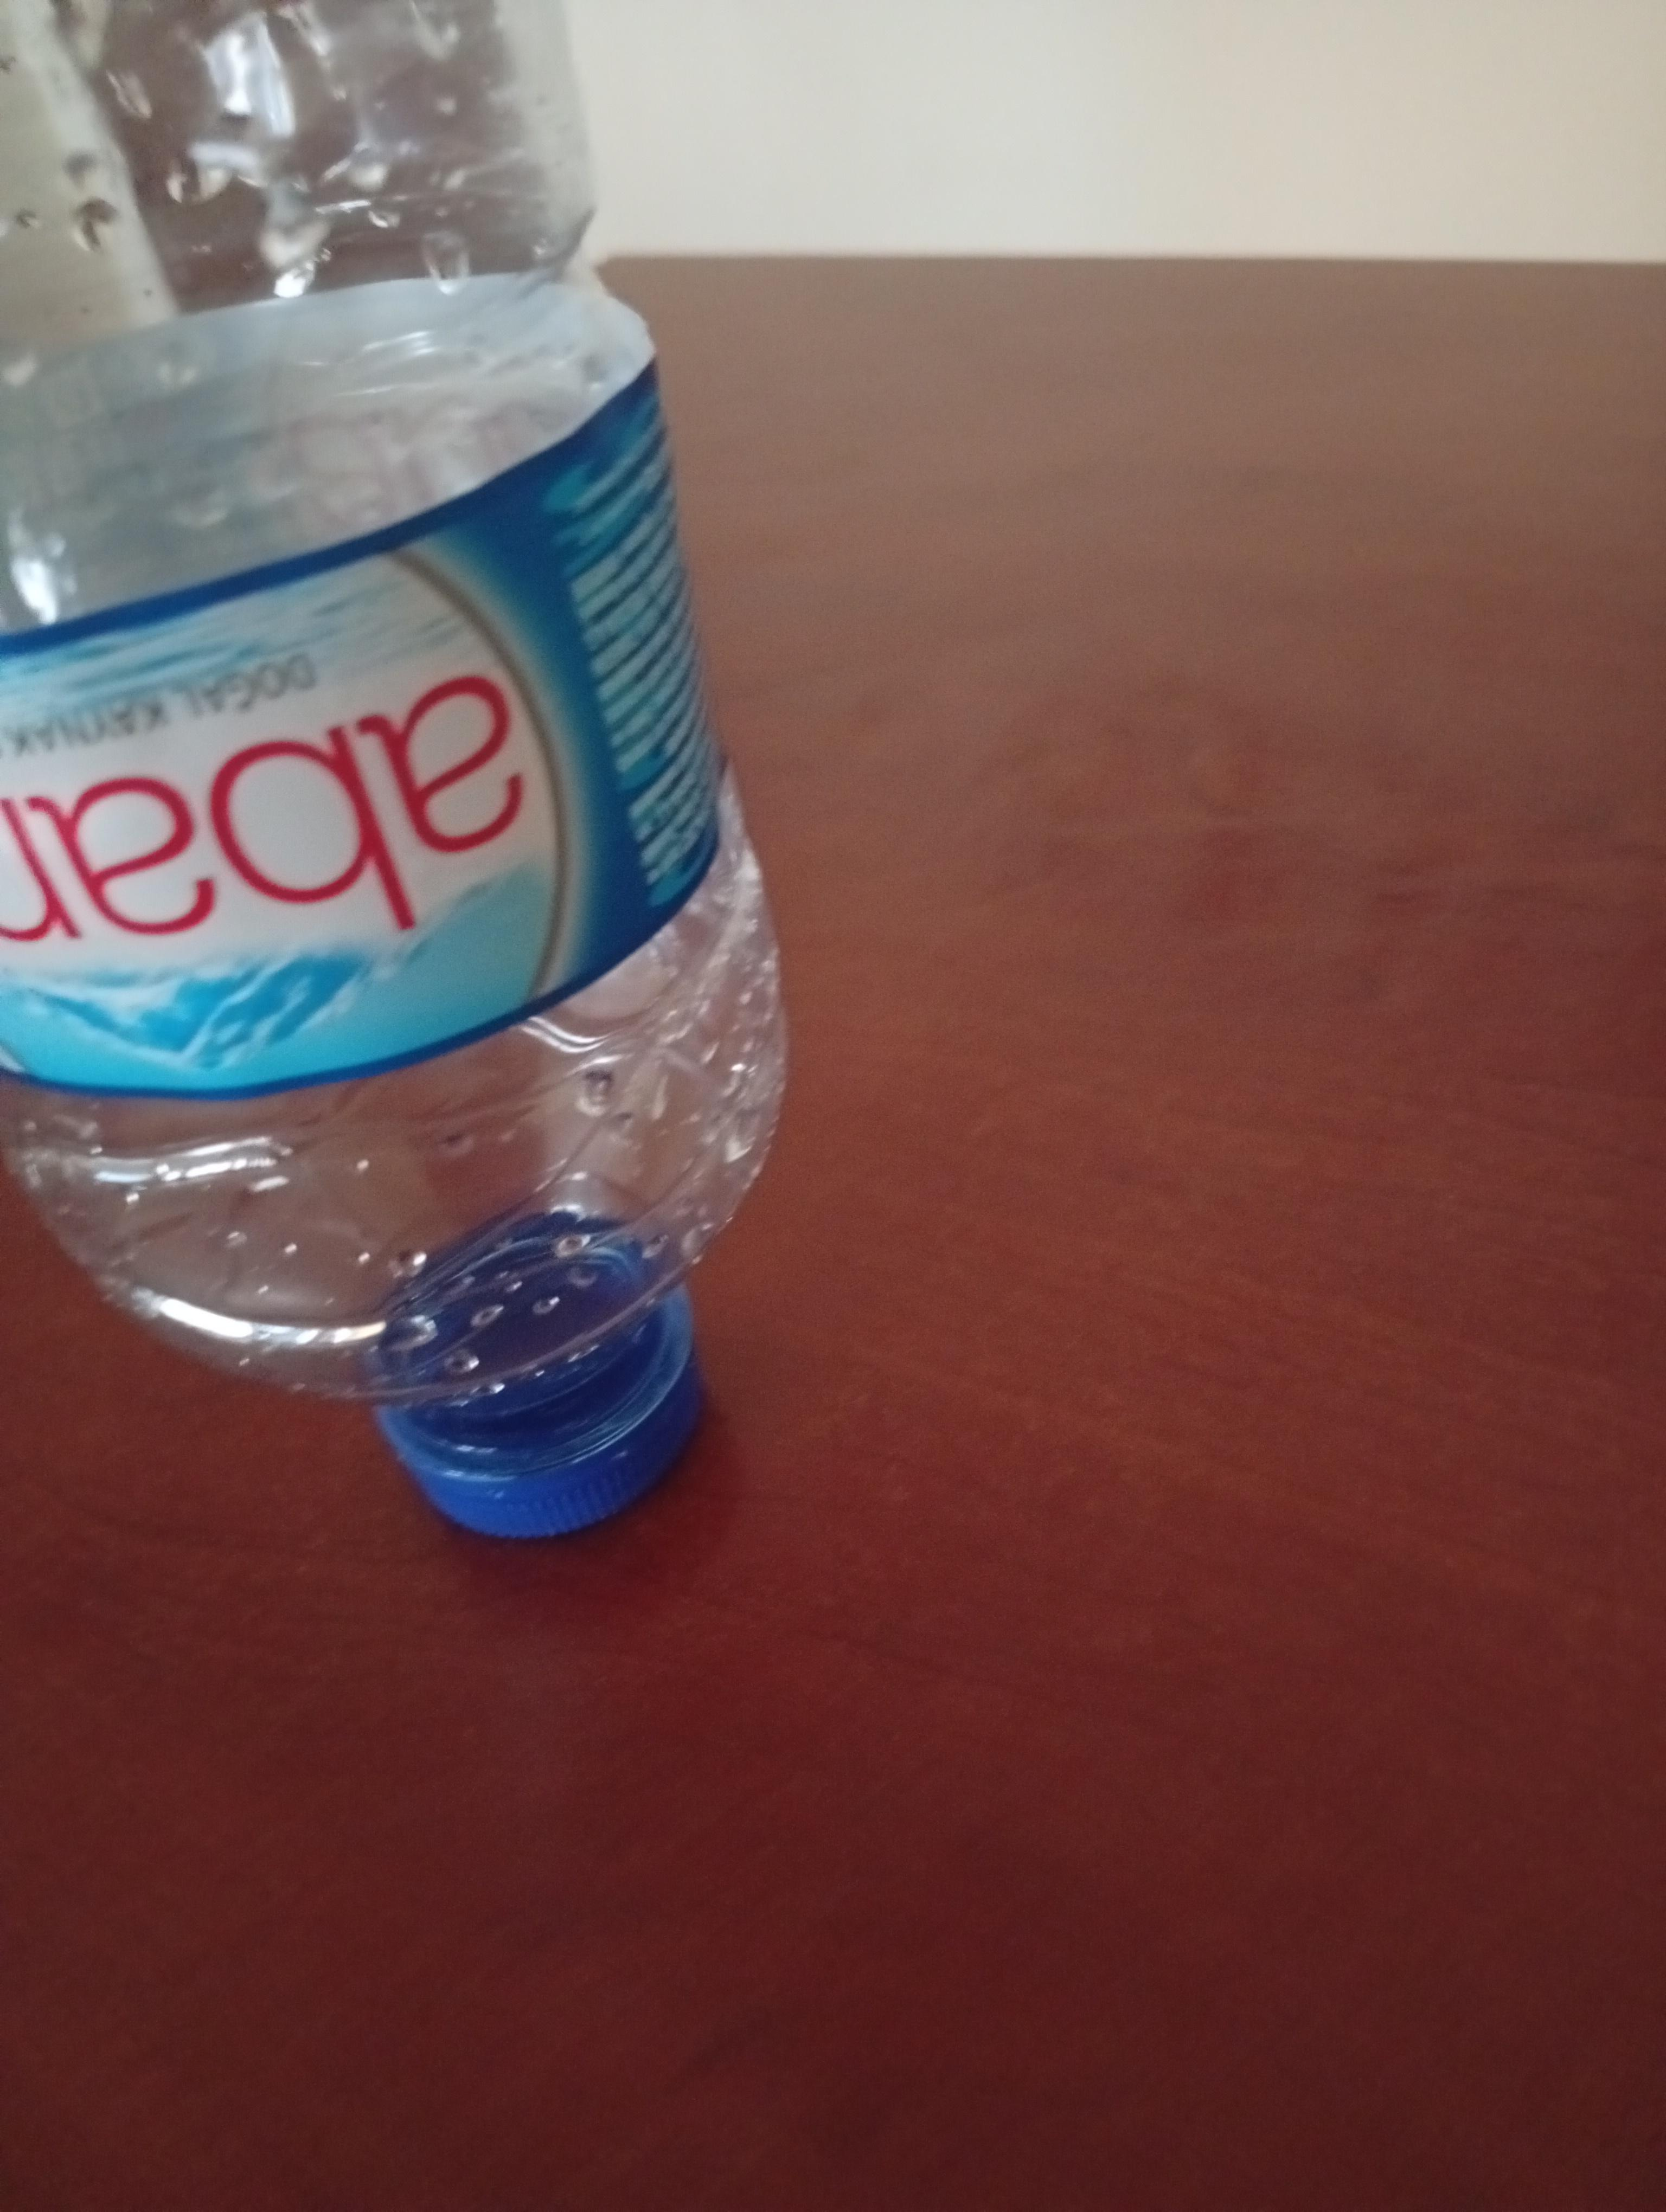etiketli: (0, 0, 800, 1551)
